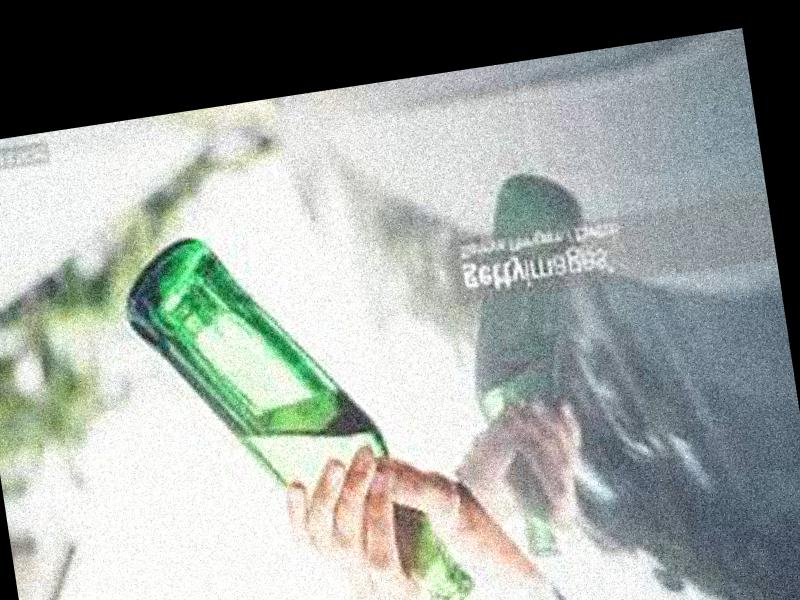Beer: (117, 204, 481, 600)
